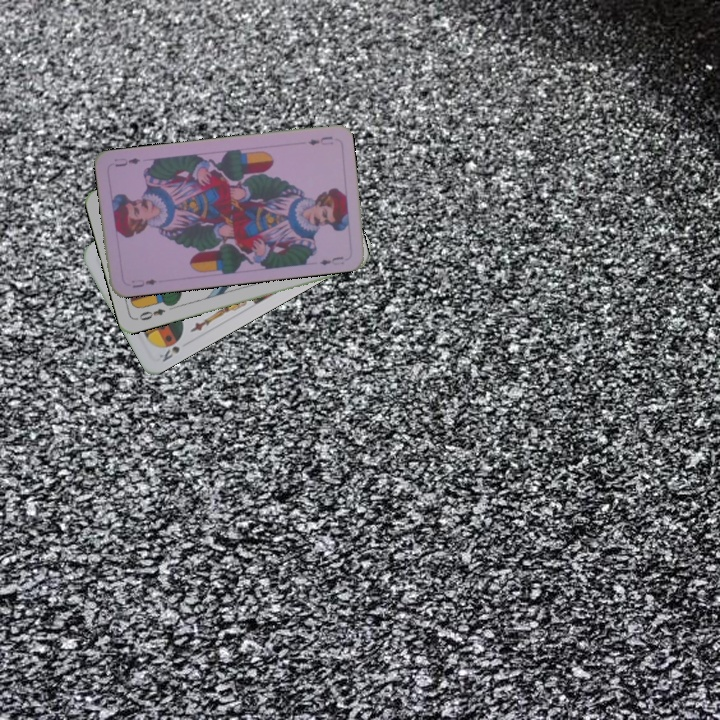EO: (132, 304, 168, 323)
EU: (304, 132, 335, 148), (128, 275, 160, 290)
SK: (155, 342, 182, 364)
